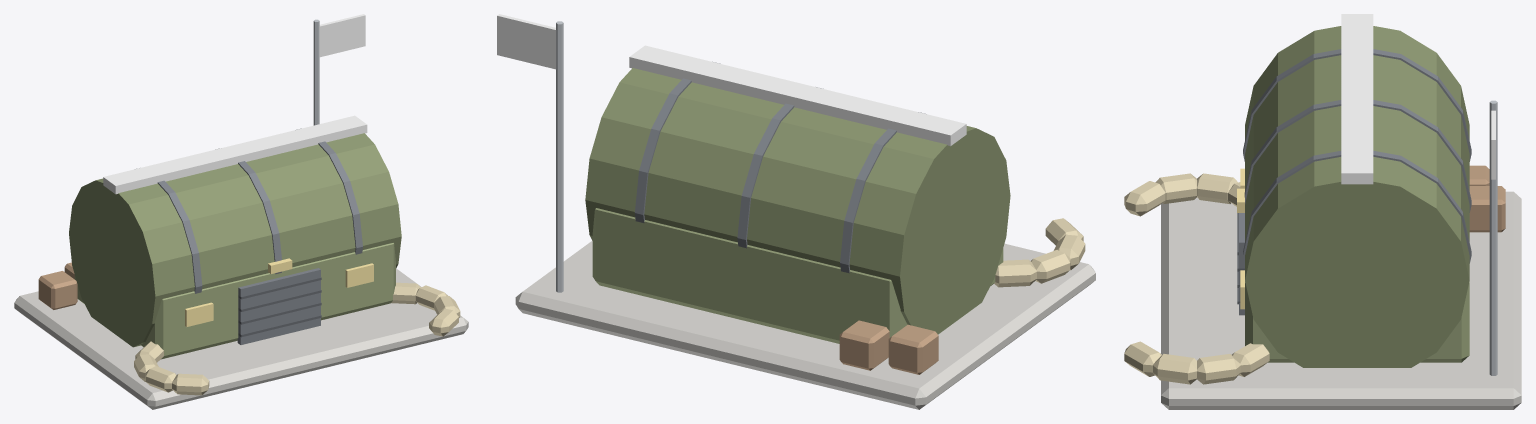
Rendered from barracks.glb.
The picture shows the model from 3 angles, left to right: view 1: azimuth 30°, elevation 25°; view 2: azimuth 150°, elevation 25°; view 3: azimuth 270°, elevation 25°; orthographic projection. The views are drawn at different scales.
Visible parts, largest first — view 1: main; view 2: main; view 3: main.
Boxes of the visible parts, x1,y1,x2,y2 form: main: (14, 14, 468, 409); main: (497, 14, 1095, 409); main: (1124, 14, 1521, 409).
Bounding box in the file's own units: 1.28 × 0.81 × 0.9913.
